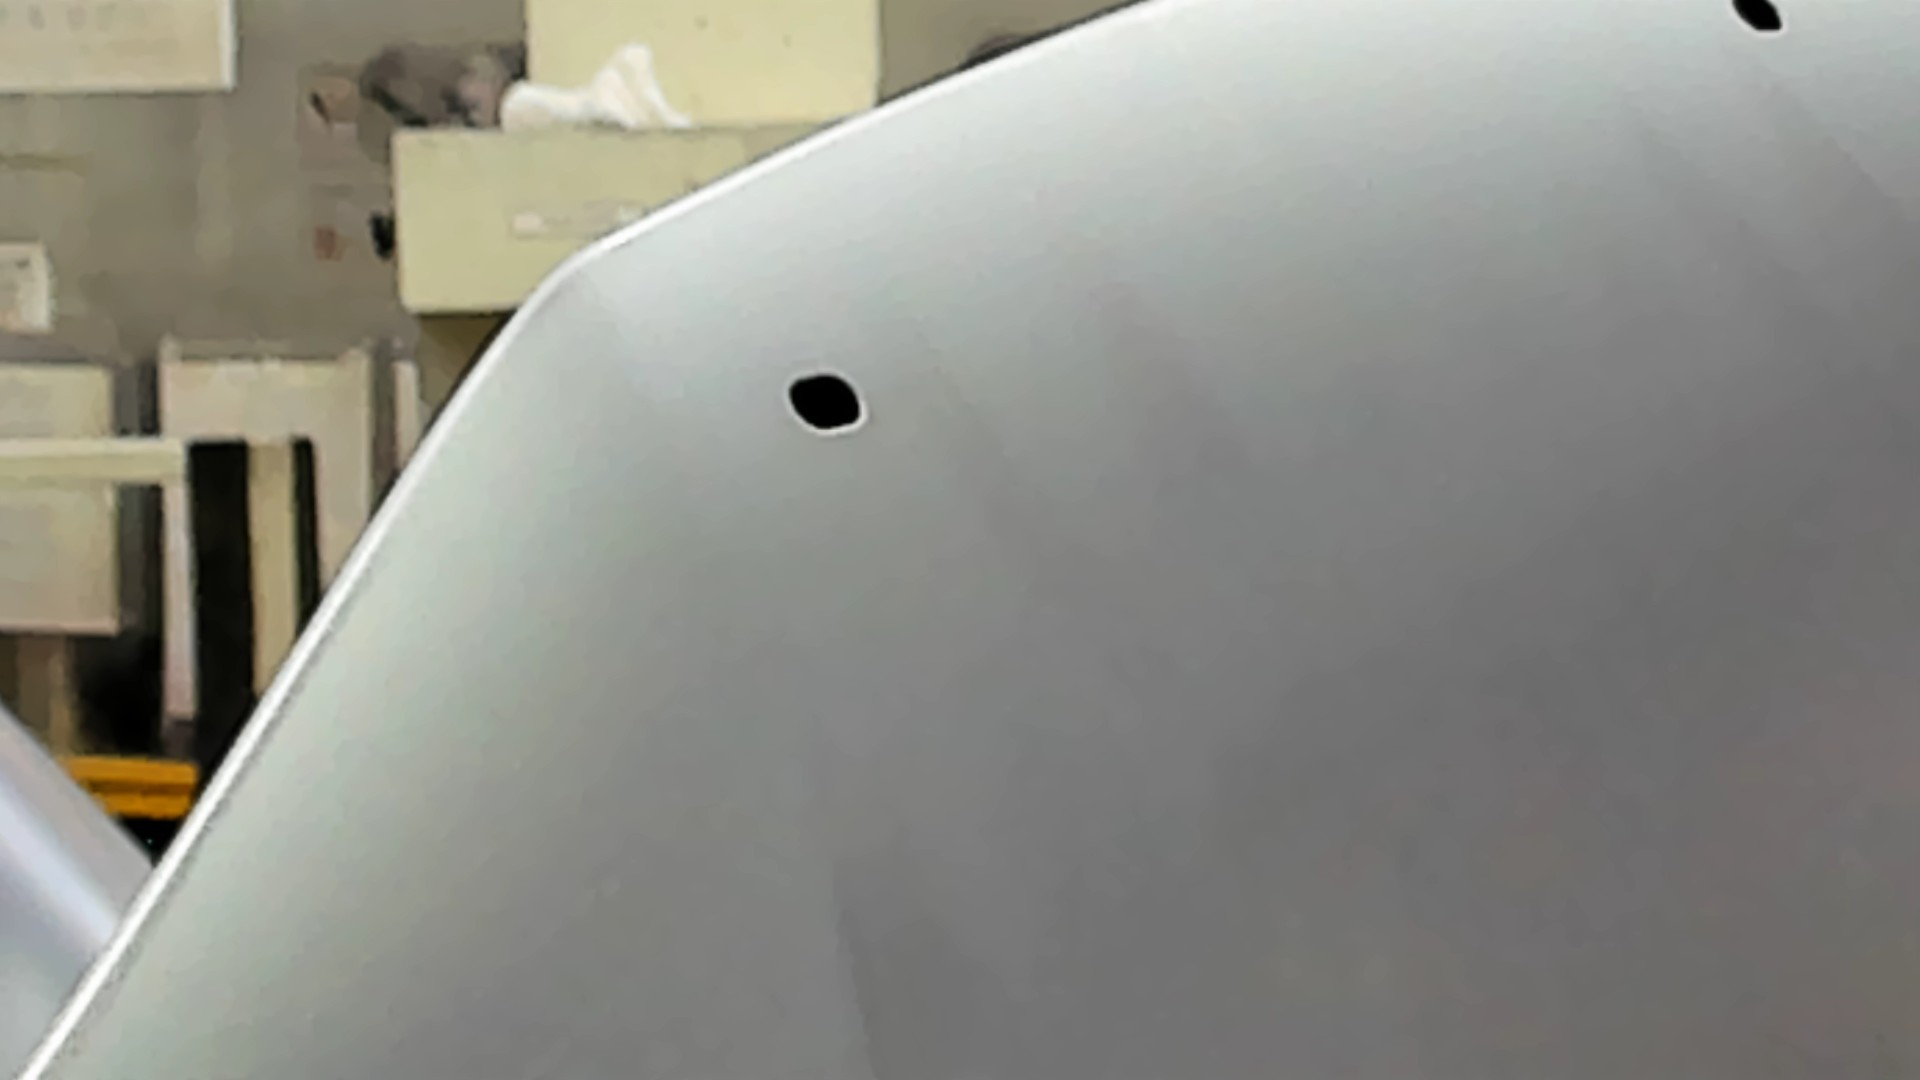amorfo: (779, 371, 874, 440), (1725, 1, 1793, 38)
